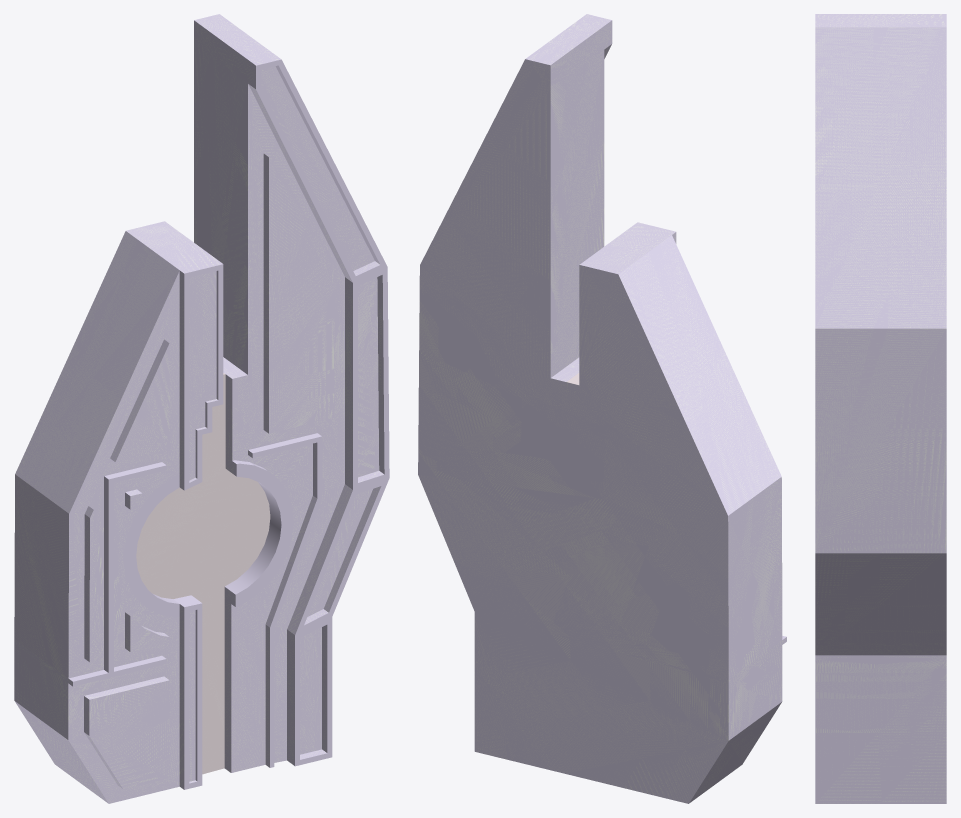
The model's file is B_Background.fbx.
The picture shows the model from 3 angles, left to right: view 1: azimuth 30°, elevation 25°; view 2: azimuth 150°, elevation 25°; view 3: azimuth 270°, elevation 25°; orthographic projection. The views are drawn at different scales.
Visible parts, largest first — view 1: group_0, group_0.001, group_0.004, group_0.015, group_0.022, group_0.018, group_0.008, group_0.009, group_0.003, group_0.012, group_0.002, group_0.014 (+9 smaller); view 2: group_0.025, group_0, group_0.001; view 3: group_0.001.
Part boxes in pixels (left/top/right/bottom): group_0: left=14, top=221, right=222, bottom=803; group_0.001: left=194, top=14, right=352, bottom=772; group_0.004: left=136, top=373, right=270, bottom=774; group_0.015: left=263, top=154, right=334, bottom=433; group_0.022: left=256, top=59, right=389, bottom=766; group_0.018: left=84, top=676, right=169, bottom=789; group_0.008: left=261, top=66, right=379, bottom=275; group_0.009: left=358, top=275, right=384, bottom=482; group_0.003: left=123, top=475, right=202, bottom=789; group_0.012: left=189, top=271, right=218, bottom=482; group_0.002: left=225, top=460, right=293, bottom=606; group_0.014: left=110, top=339, right=169, bottom=462; group_0.025: left=418, top=59, right=728, bottom=803; group_0: left=579, top=222, right=786, bottom=803; group_0.001: left=525, top=14, right=612, bottom=381; group_0.001: left=815, top=14, right=946, bottom=803.
Size of the model in its own units: 5013 by 10867 by 1723.
